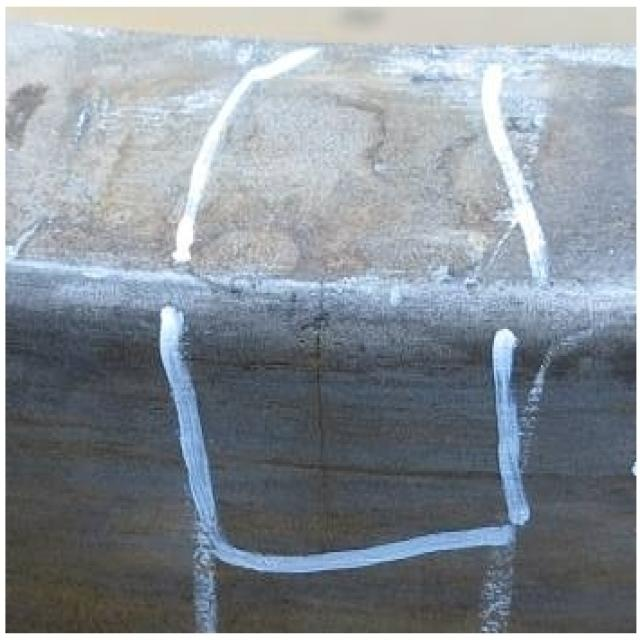Brake_Thermal_Cracks: (315, 260, 328, 507)
